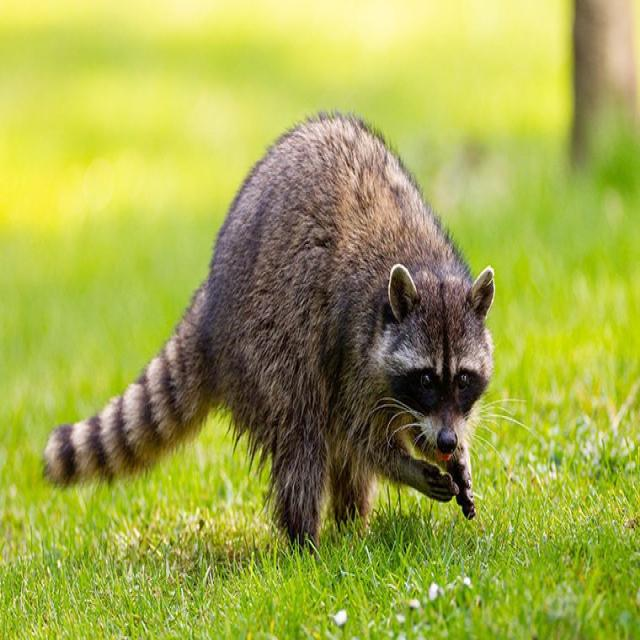Raccoon: (36, 85, 500, 545)
